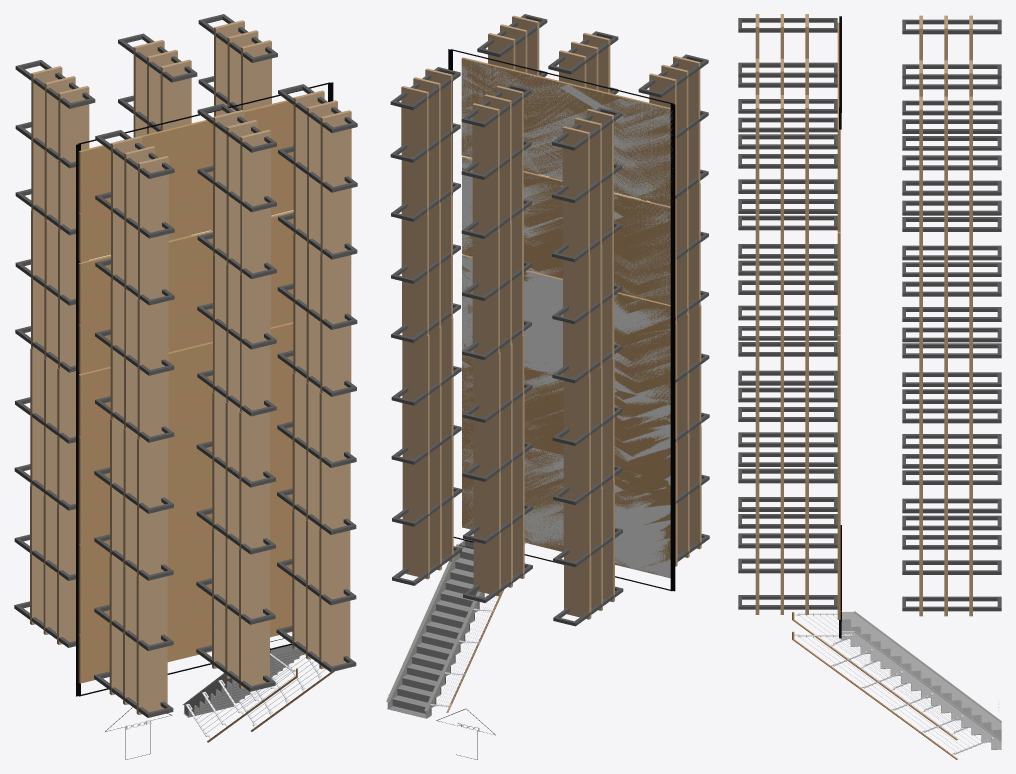
Rendered from das (3).glb.
The picture shows the model from 3 angles, left to right: view 1: azimuth 30°, elevation 25°; view 2: azimuth 150°, elevation 25°; view 3: azimuth 270°, elevation 25°; orthographic projection. The views are drawn at different scales.
Parts seen in each view (by area): view 1: Node6, Node607, Node544, Node516, Node583, Node654, Node553, Node536, Node600, Node560, Node562, Node525 (+92 smaller); view 2: Node936, Node950, Node964, Node998, Node922, Node6, Node785, Node359, Node405, Node398, Node423, Node332 (+92 smaller); view 3: Node997, Node996, Node998, Node440, Node331, Node388, Node334, Node546, Node350, Node381, Node593, Node625 (+92 smaller).
Boxes of the visible parts, <box> form: Node6: <box>76,82,333,696</box>; Node607: <box>239,412,270,484</box>; Node544: <box>320,110,351,189</box>; Node516: <box>319,392,350,464</box>; Node583: <box>137,363,168,439</box>; Node654: <box>136,638,167,714</box>; Node553: <box>320,249,351,326</box>; Node536: <box>320,317,351,393</box>; Node600: <box>137,295,168,371</box>; Node560: <box>319,593,350,669</box>; Node562: <box>137,438,167,510</box>; Node525: <box>319,525,350,597</box>; Node936: <box>461,60,672,205</box>; Node950: <box>462,256,670,402</box>; Node964: <box>462,438,670,578</box>; Node998: <box>387,540,484,718</box>; Node922: <box>462,157,670,302</box>; Node6: <box>448,49,675,591</box>; Node785: <box>462,355,670,485</box>; Node359: <box>402,330,429,398</box>; Node405: <box>563,371,590,439</box>; Node398: <box>563,250,590,317</box>; Node423: <box>472,103,499,173</box>; Node332: <box>401,86,428,155</box>; Node997: <box>841,611,1001,730</box>; Node996: <box>841,630,1001,749</box>; Node998: <box>840,619,1001,749</box>; Node440: <box>902,245,1001,260</box>; Node331: <box>902,155,1001,170</box>; Node388: <box>902,515,1001,530</box>; Node334: <box>902,100,1001,115</box>; Node546: <box>738,215,837,230</box>; Node350: <box>902,281,1001,296</box>; Node381: <box>902,19,1001,34</box>; Node593: <box>738,134,837,149</box>; Node625: <box>738,62,837,77</box>.
Size of the model in its own units: 2199 by 5932 by 2111.
